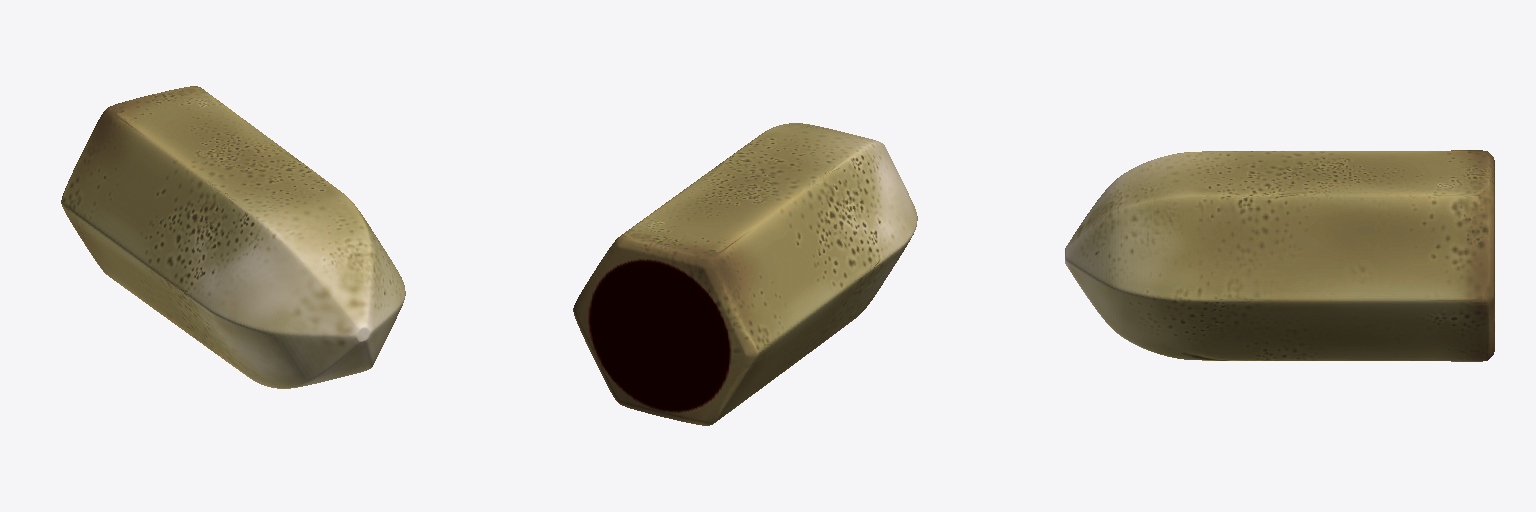
3 views of the same model, side by side, from view 1: azimuth 30°, elevation 25°; view 2: azimuth 150°, elevation 25°; view 3: azimuth 270°, elevation 25° (orthographic).
Visible parts, largest first — view 1: 12944_Stone_Chess_Pawn_Side_A; view 2: 12944_Stone_Chess_Pawn_Side_A; view 3: 12944_Stone_Chess_Pawn_Side_A.
Boxes of the visible parts, <box> form: 12944_Stone_Chess_Pawn_Side_A: <box>61,86,405,388</box>; 12944_Stone_Chess_Pawn_Side_A: <box>573,123,917,425</box>; 12944_Stone_Chess_Pawn_Side_A: <box>1065,150,1494,361</box>.
Bounding box in the file's own units: 2.42 × 2.15 × 4.92.
Materials: 1 (1 with a texture image).